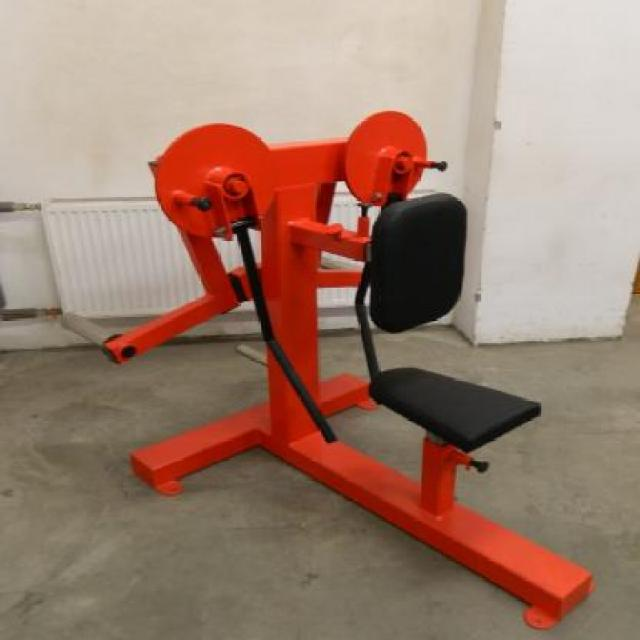lateral raises machine: (111, 109, 595, 631)
